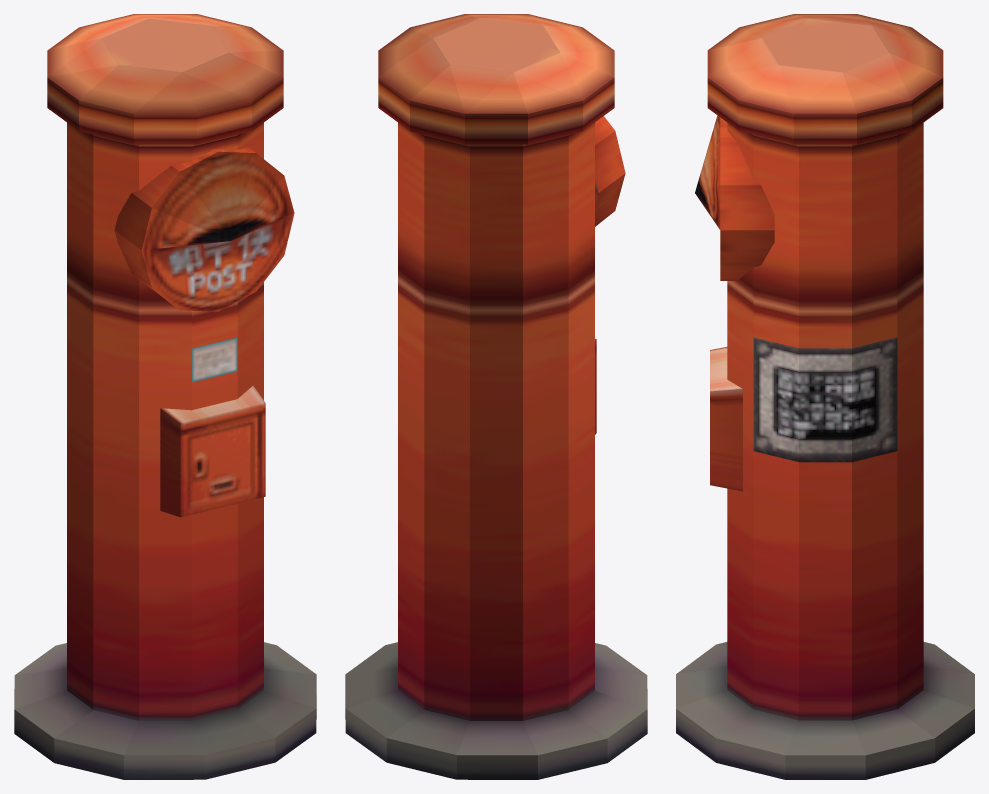
Rendered from icon.ico.obj.
3 renders of one model, left to right at view 1: azimuth 30°, elevation 25°; view 2: azimuth 150°, elevation 25°; view 3: azimuth 270°, elevation 25°, orthographic.
Bounding box in the file's own units: 1.78 × 4.36 × 1.76.
1 material, 1 textured.
